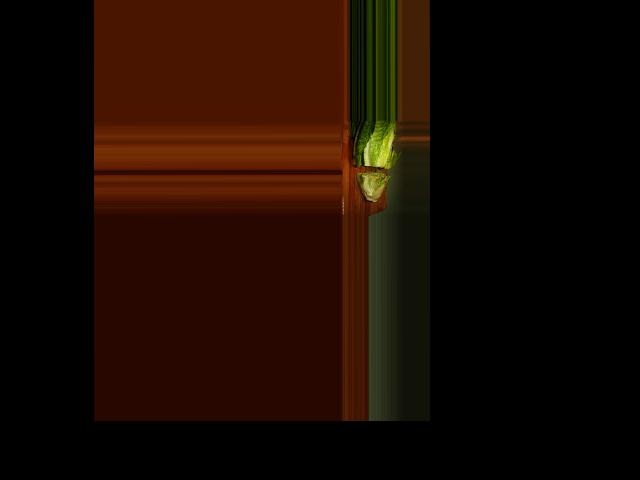lettuce: (347, 121, 398, 201)
